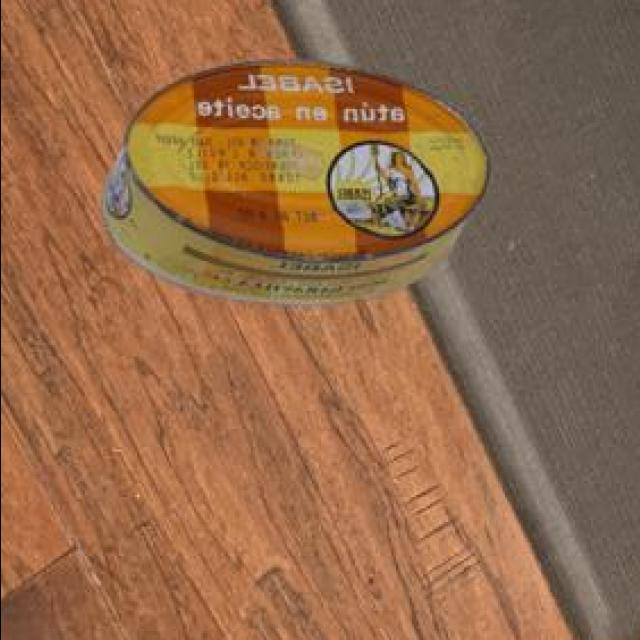logam: (103, 65, 494, 308)
